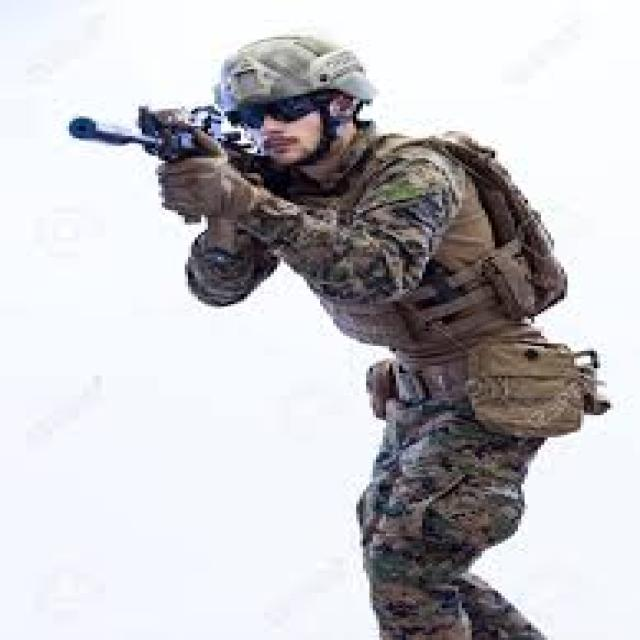soldier: (61, 26, 613, 640)
